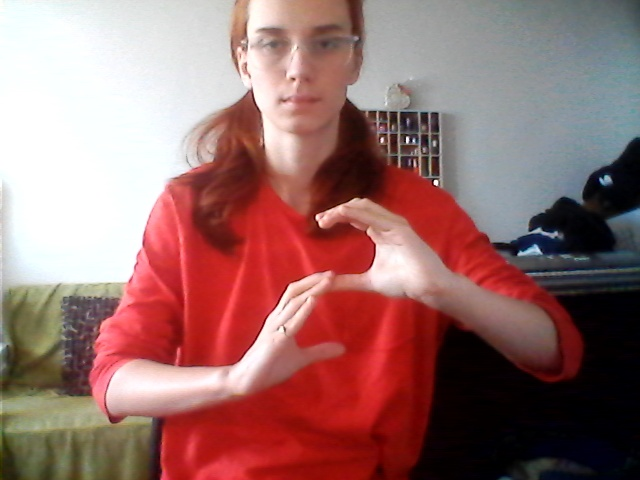s: (243, 193, 445, 394)
